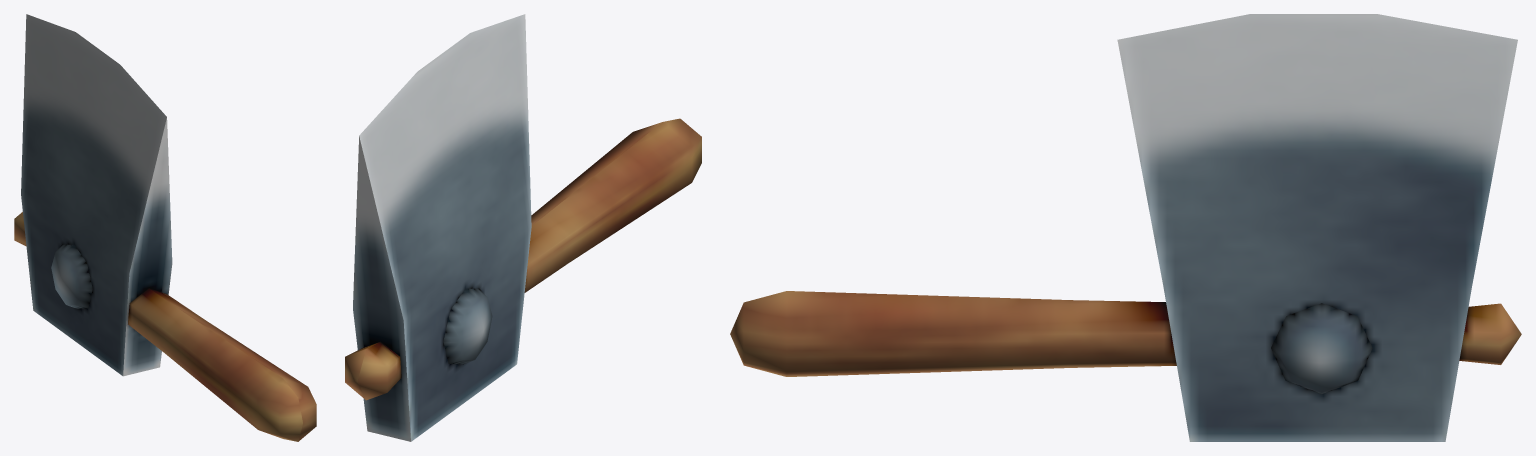
File: axe001 1.fbx
The picture shows the model from 3 angles, left to right: view 1: azimuth 30°, elevation 25°; view 2: azimuth 150°, elevation 25°; view 3: azimuth 270°, elevation 25°; orthographic projection. The views are drawn at different scales.
Visible parts, largest first — view 1: axe001; view 2: axe001; view 3: axe001.
Boxes of the visible parts, box(x1,y1,x2,y2) form: axe001: box(14, 14, 316, 441); axe001: box(345, 14, 701, 441); axe001: box(730, 14, 1521, 441).
Size of the model in its own units: 0.0689 by 0.2651 by 0.4582.
